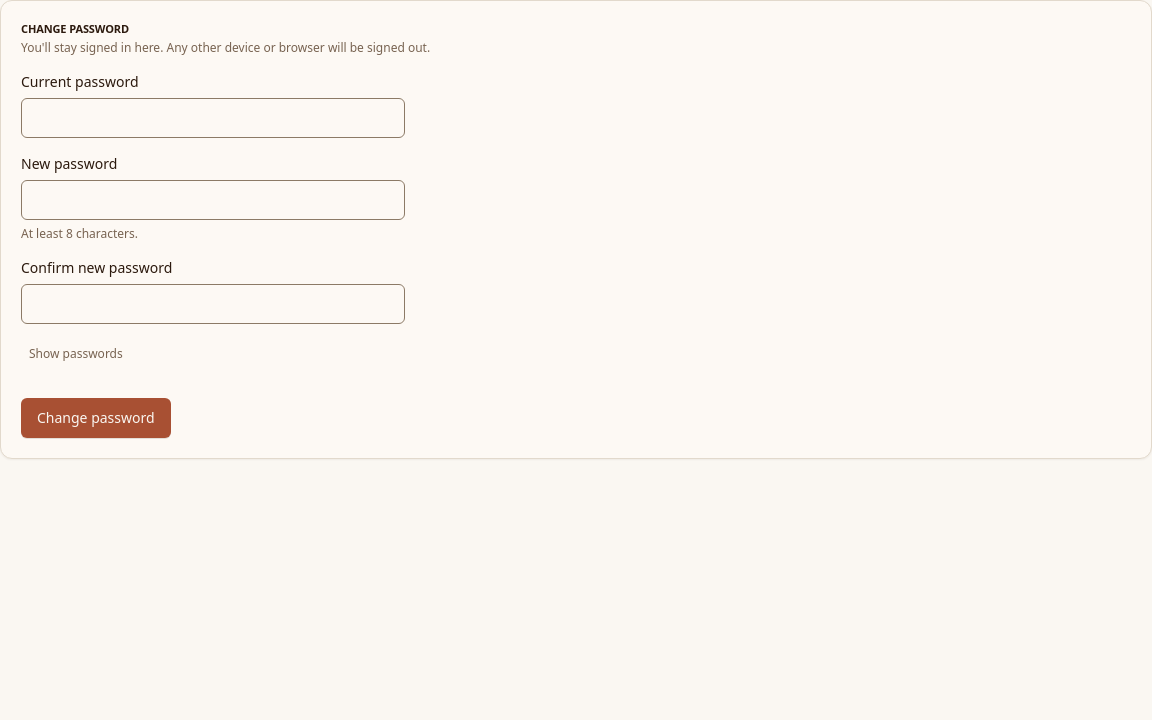
it: a wrong current password shows the server's plain message
In the password field labelled "Current password": (213, 118) [21,98,405,138], type "wrong"
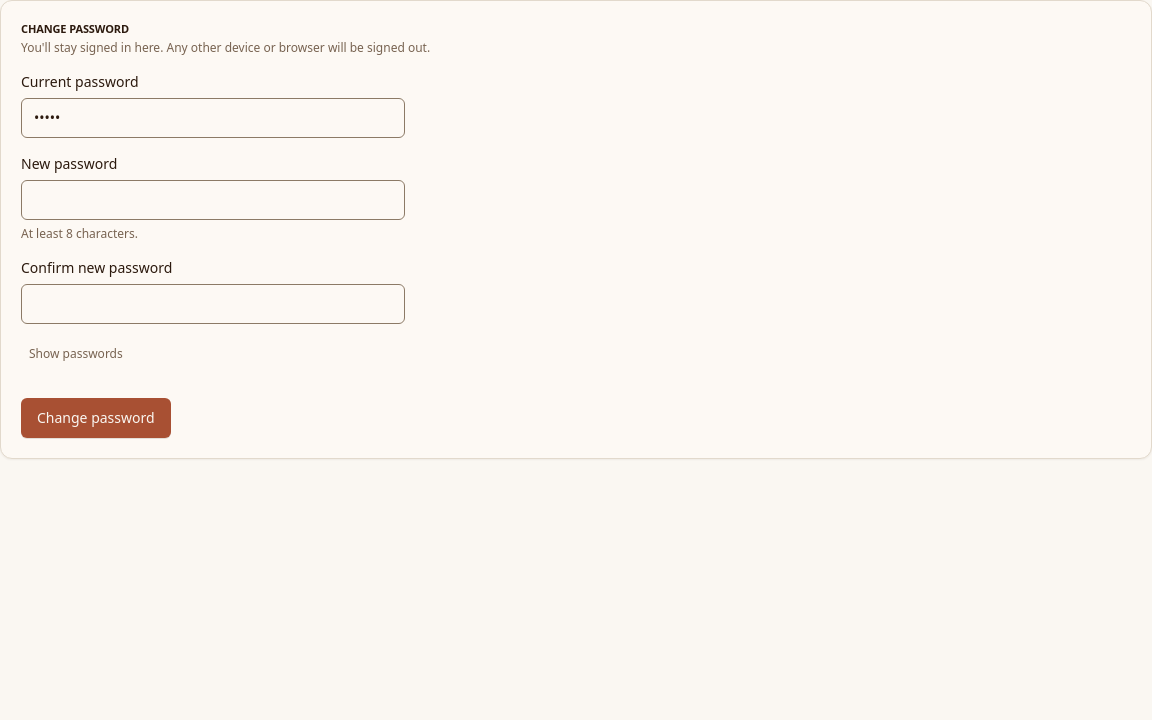
In the password field labelled "New password": (213, 200) [21,180,405,220], type "new-password-1"
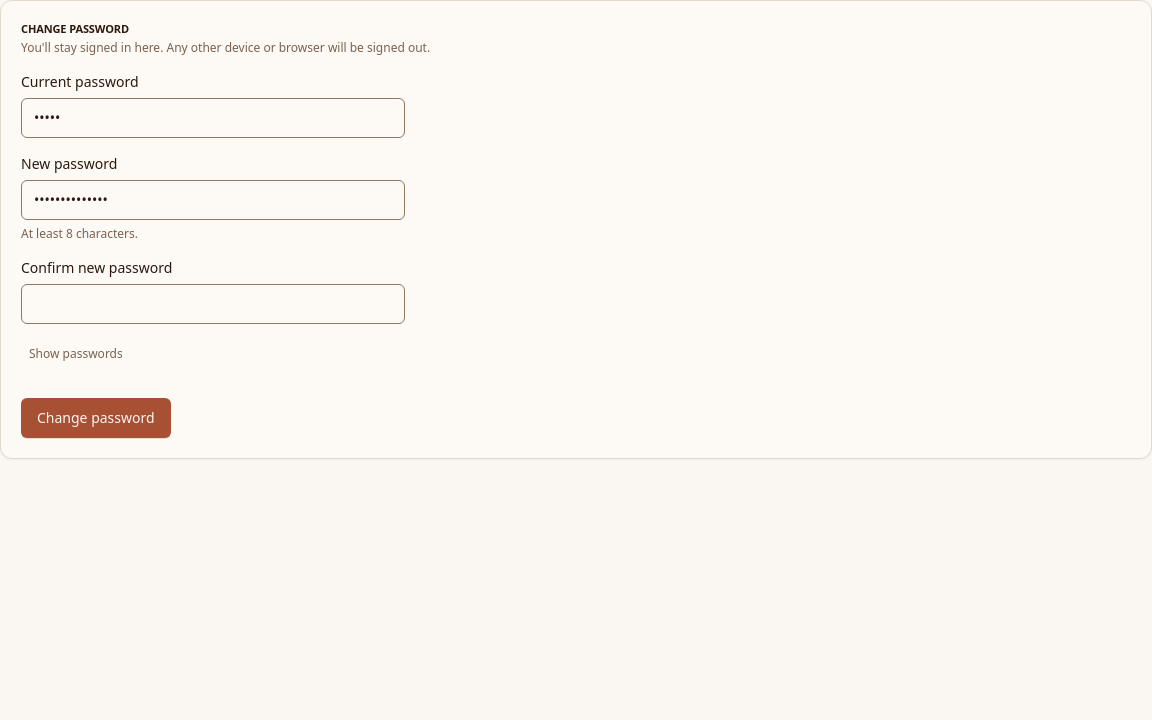
In the password field labelled "Confirm new password": (213, 304) [21,284,405,324], type "new-password-1"
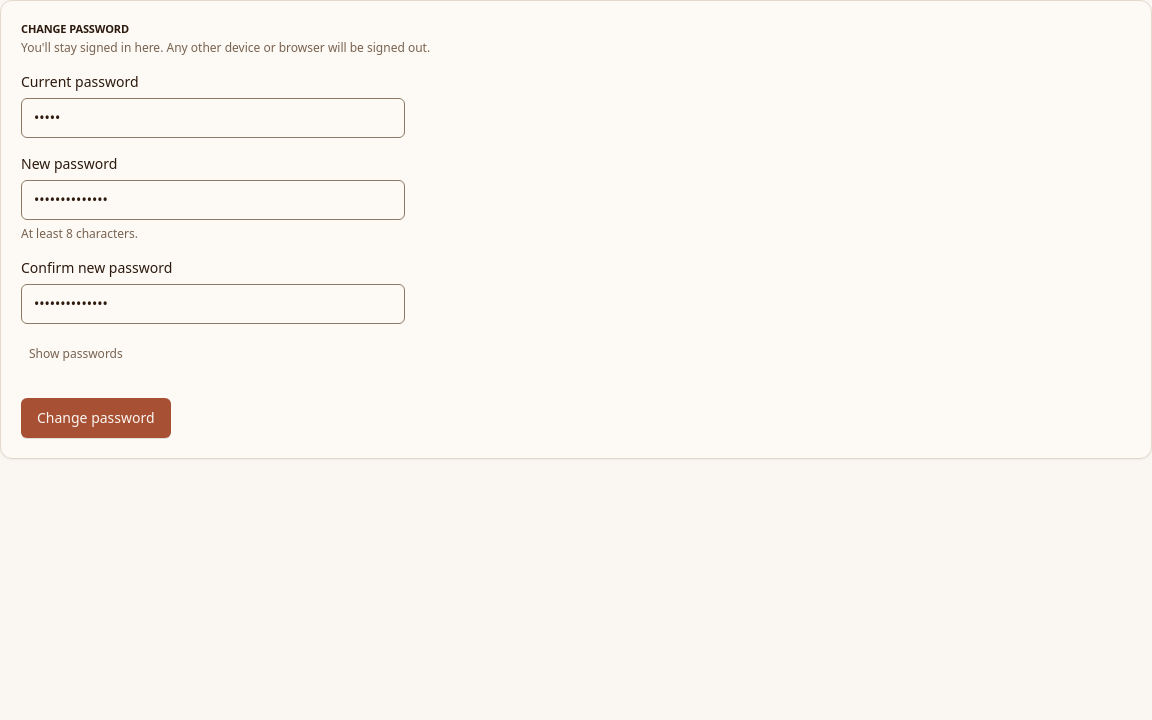
Click the button "Change password": (96, 418) [21,398,171,438]
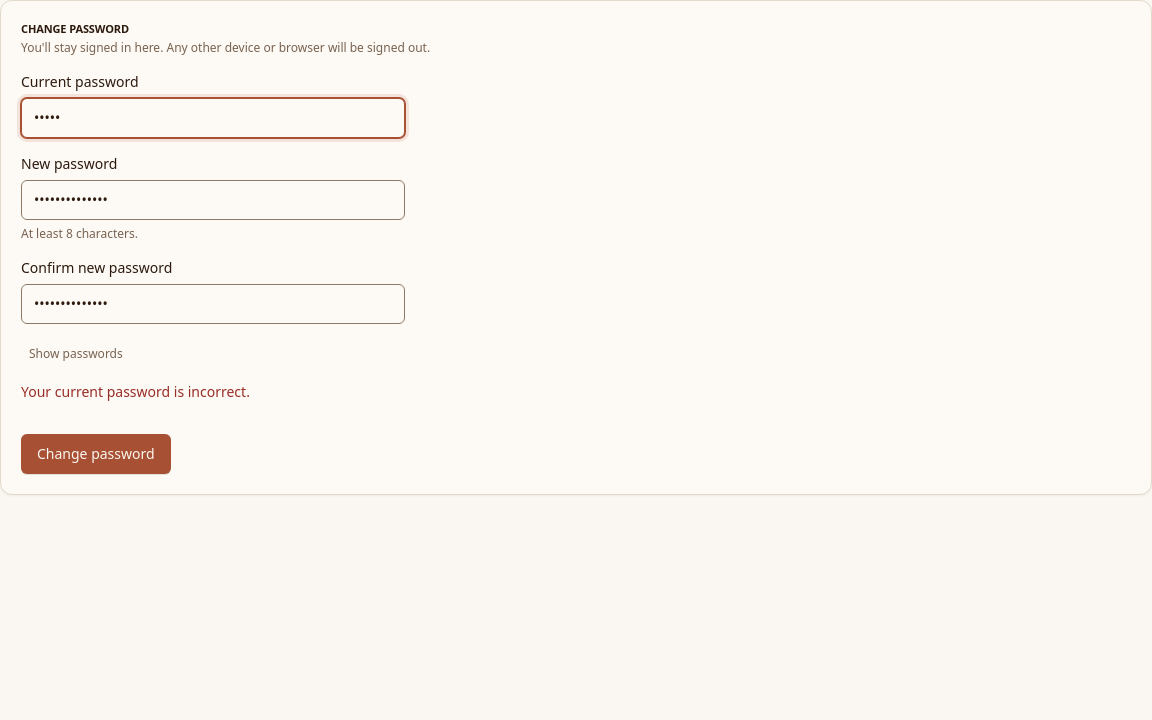
Result: the message shows "incorrect" at [21,382,250,400]
